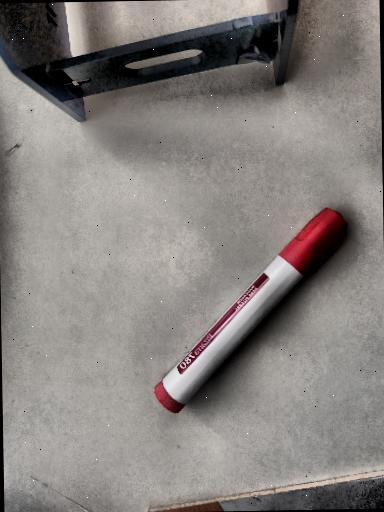marcador rojo: (155, 208, 347, 413)
